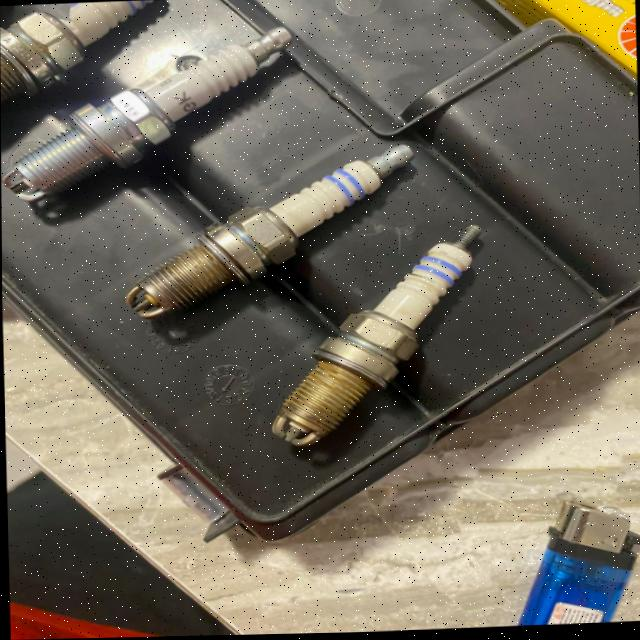spark-plug: (113, 135, 422, 335), (1, 15, 304, 218), (257, 214, 505, 461)
